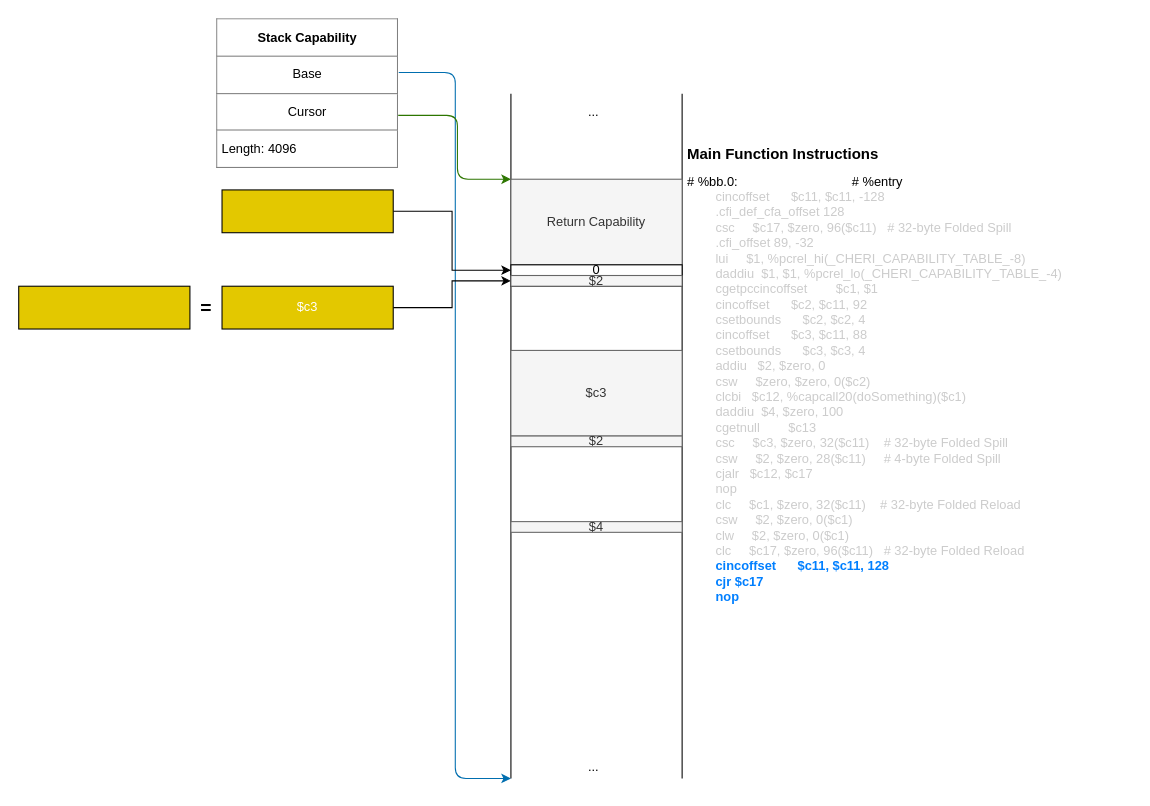
Image size: 1150x806. Some labels were removed from this diagram. The centre of each missing label's shape, as x and y in pixels:
$c1: the point at 104,307
$c2: the point at 307,211
